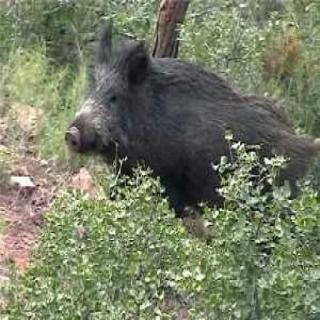Pig: (73, 17, 320, 272)
